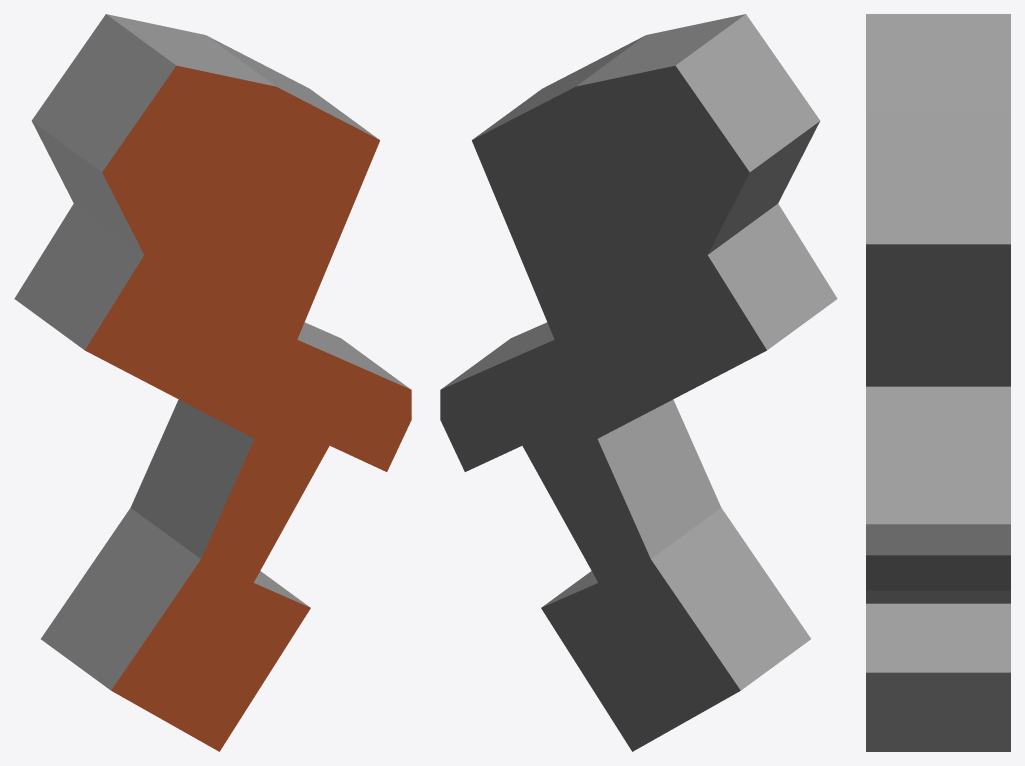
Rendered from construction_6811_assumed_A_Casa_h6m.obj.
3 views of the same model, side by side, from view 1: azimuth 30°, elevation 25°; view 2: azimuth 150°, elevation 25°; view 3: azimuth 270°, elevation 25° (orthographic). The views are drawn at different scales.
Visible parts, largest first — view 1: construction_6811_assumed_A_Casa; view 2: construction_6811_assumed_A_Casa; view 3: construction_6811_assumed_A_Casa.
Part boxes in pixels (x1,y1,x2,y2): construction_6811_assumed_A_Casa: (14,14,411,751); construction_6811_assumed_A_Casa: (440,14,837,751); construction_6811_assumed_A_Casa: (866,14,1010,751).
Size of the model in its own units: 16.06 by 32.71 by 6.
